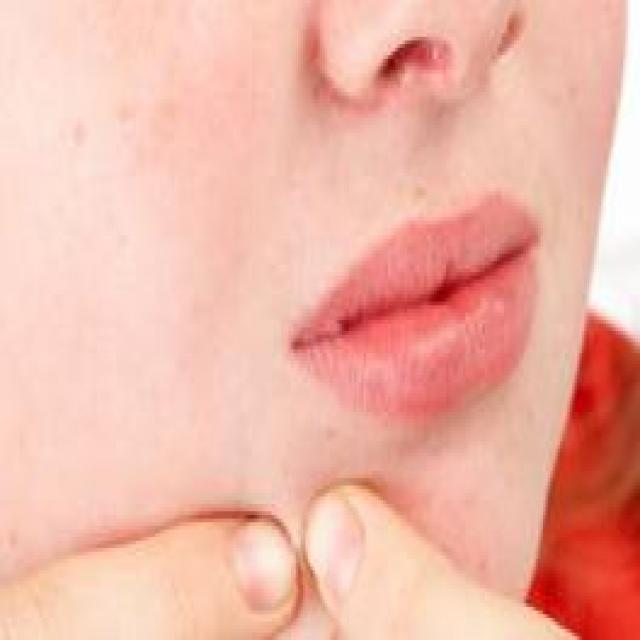blackheads: (70, 122, 82, 144), (412, 184, 424, 195)
